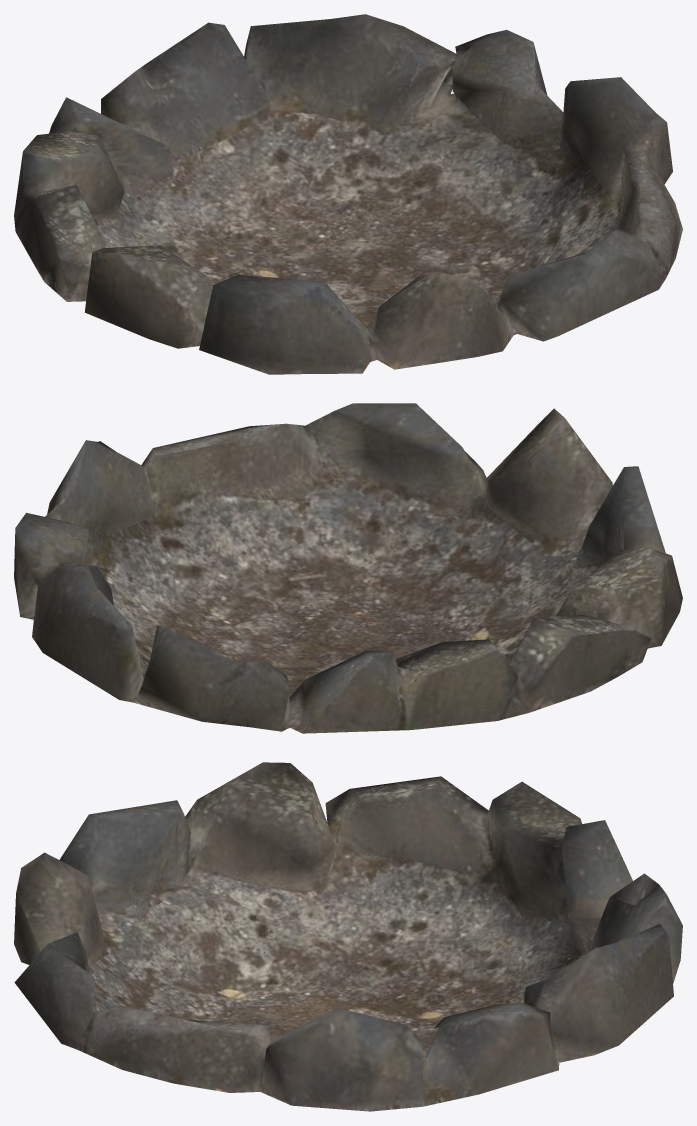
Rendered from stone_fire_pit.glb.
3 renders of one model, top to bottom at view 1: azimuth 30°, elevation 25°; view 2: azimuth 150°, elevation 25°; view 3: azimuth 270°, elevation 25°, orthographic.
Visible parts, largest first — view 1: stone_fire_pit; view 2: stone_fire_pit; view 3: stone_fire_pit.
Part boxes in pixels (<box>): stone_fire_pit: <box>14,14,682,374</box>; stone_fire_pit: <box>14,403,682,733</box>; stone_fire_pit: <box>14,762,682,1111</box>.
Bounding box in the file's own units: 1.44 × 0.376 × 1.43.
1 material, 1 textured.
